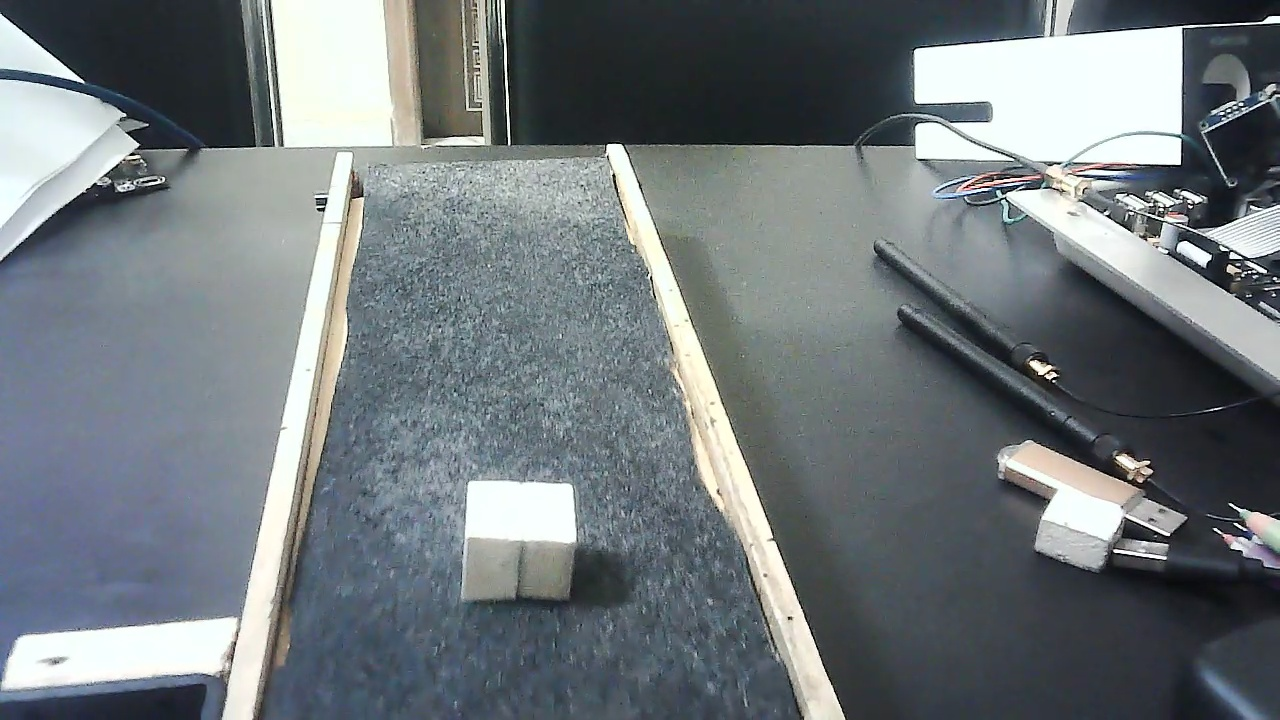Small: (456, 482, 580, 606)
